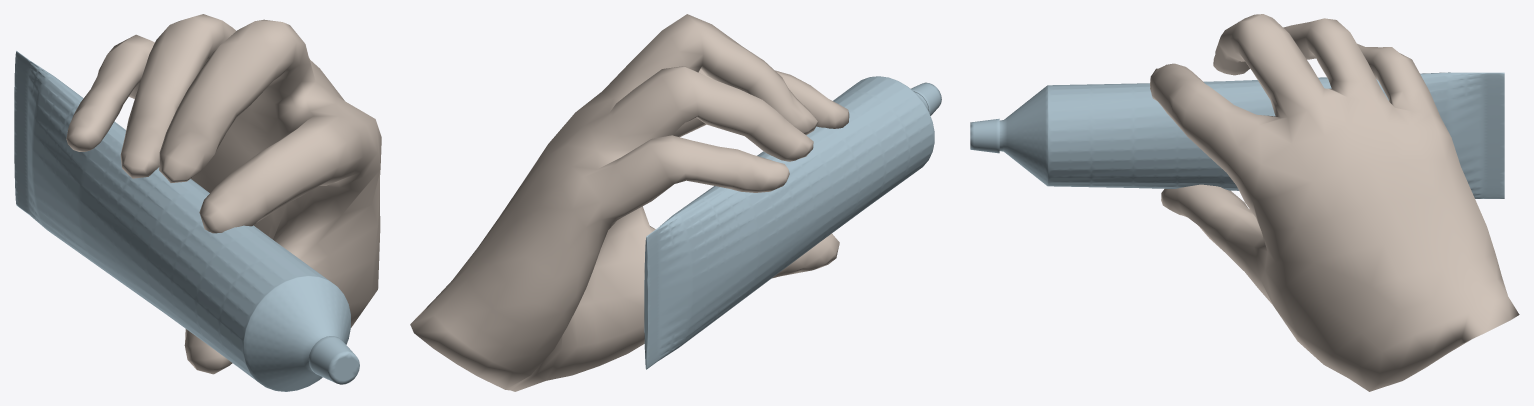
The picture shows the model from 3 angles, left to right: view 1: azimuth 30°, elevation 25°; view 2: azimuth 150°, elevation 25°; view 3: azimuth 270°, elevation 25°; orthographic projection. The views are drawn at different scales.
Size of the model in its own units: 0.127 by 0.1348 by 0.2077.
